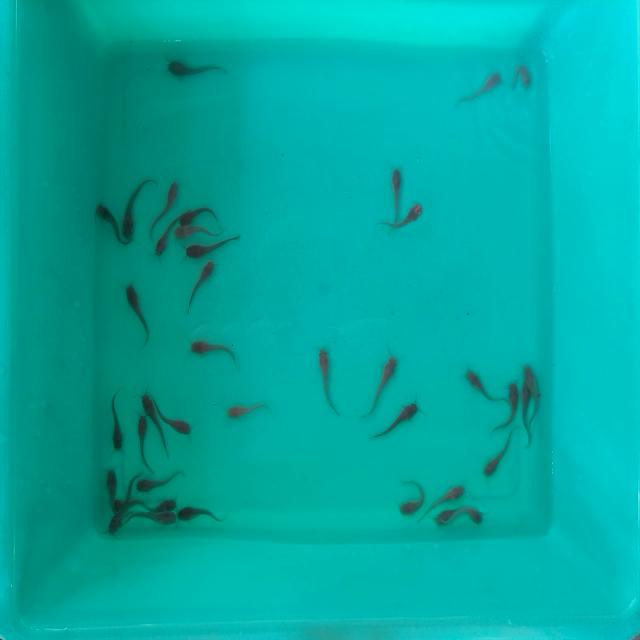lele: (478, 423, 517, 478), (363, 359, 397, 419), (368, 401, 414, 445), (144, 399, 192, 441), (92, 198, 132, 248), (118, 174, 156, 226), (148, 182, 182, 240), (121, 286, 151, 350), (182, 257, 216, 313), (376, 201, 425, 237), (186, 336, 240, 368), (462, 67, 506, 103), (464, 368, 502, 408), (316, 349, 336, 413), (184, 236, 242, 258), (134, 470, 182, 495), (166, 57, 226, 77), (152, 214, 180, 256), (149, 419, 175, 463), (171, 504, 225, 524), (509, 55, 534, 95), (224, 401, 272, 421), (110, 392, 124, 458), (522, 362, 546, 398), (398, 484, 424, 516), (428, 482, 467, 503), (390, 164, 404, 222), (104, 508, 131, 538), (181, 204, 219, 224), (502, 382, 518, 426), (520, 398, 534, 446), (134, 414, 146, 466), (458, 504, 486, 526), (142, 513, 176, 531), (174, 224, 224, 236), (121, 472, 140, 500), (434, 508, 458, 528), (103, 466, 117, 498), (150, 498, 178, 512)
